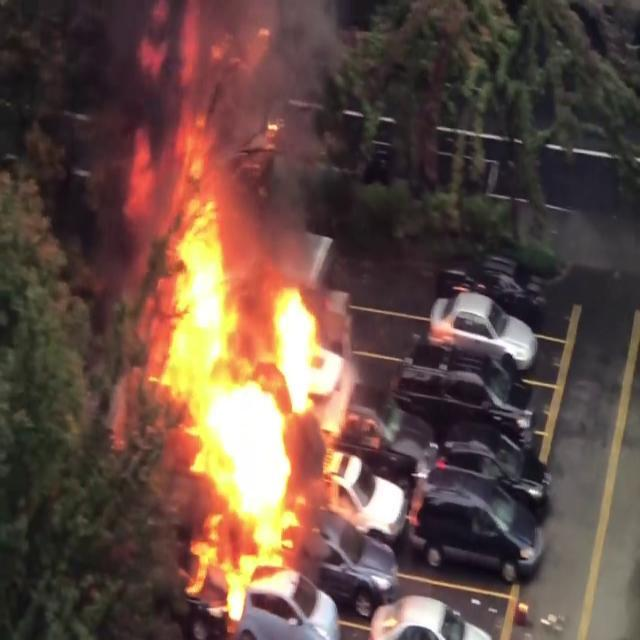Fire: (114, 95, 378, 620)
